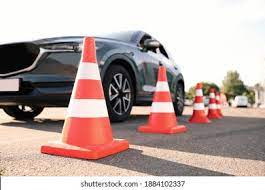car: (1, 29, 185, 117)
cone: (42, 36, 129, 161), (137, 66, 187, 135), (189, 83, 209, 124), (208, 88, 222, 121)
